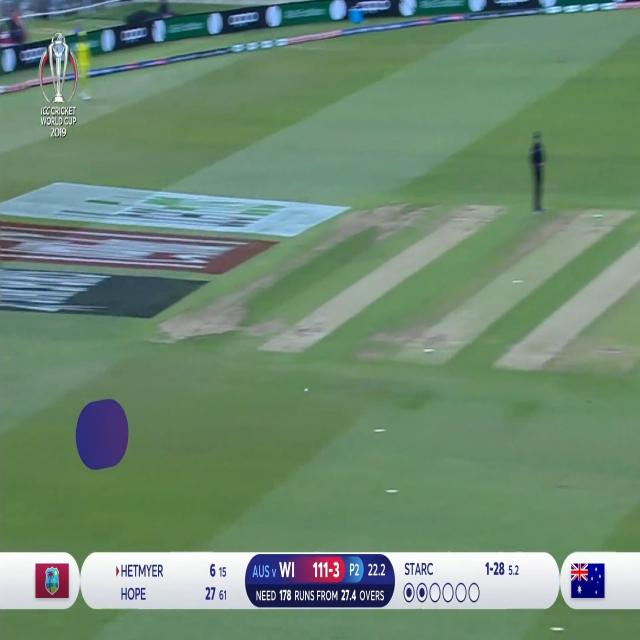ball: (300, 379, 313, 404)
